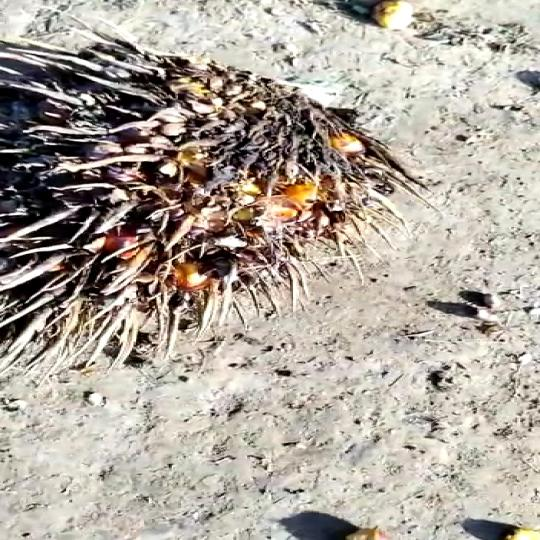terlalu masak: (0, 36, 413, 381)
